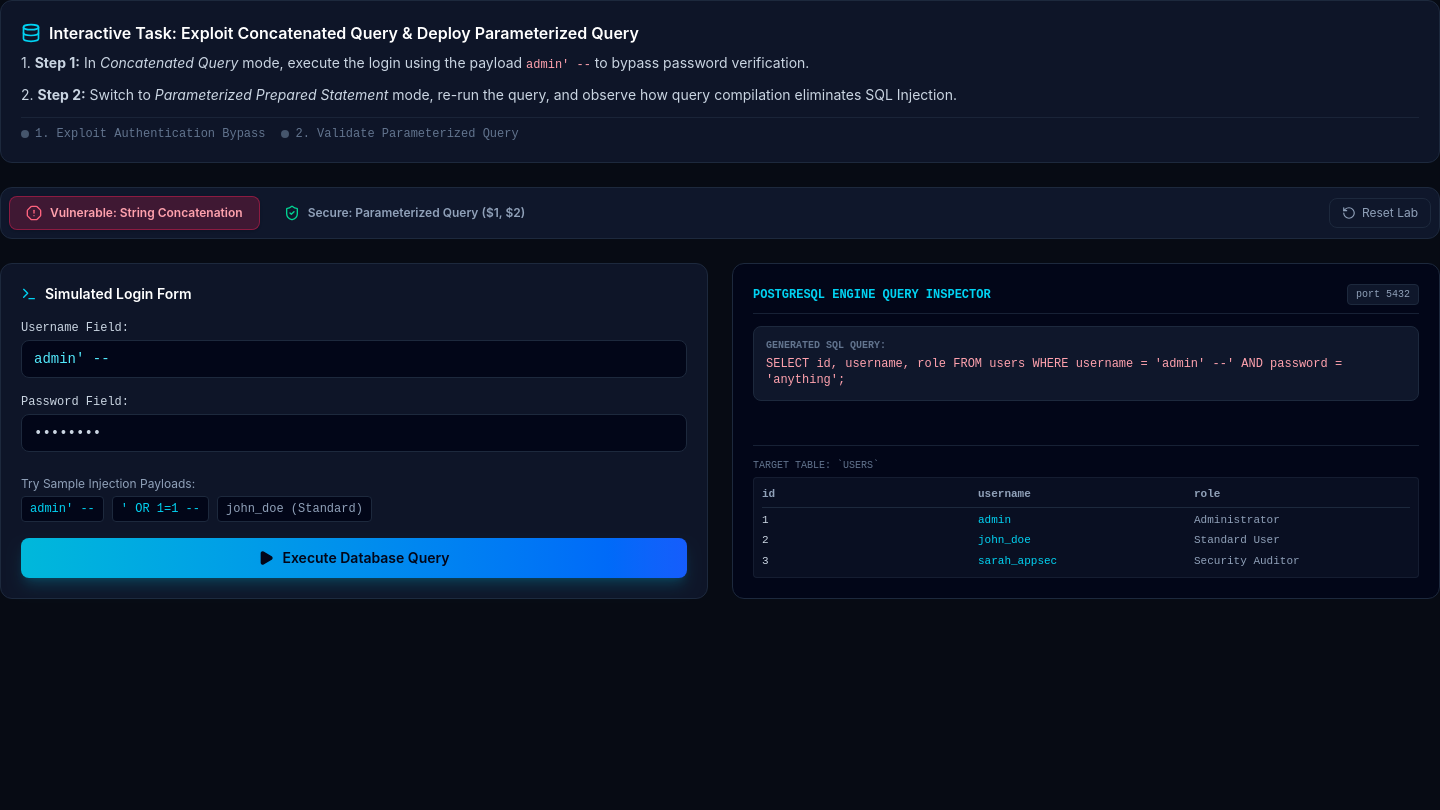
WebSecLab Interactive Sandboxes › SQL Injection Sandbox simulates authentication bypass
Expected: the text "Interactive Task: Exploit Concatenated Query" is shown, [49,23,639,43]
Click the button "Execute Database Query": (354, 558) [21,538,687,578]
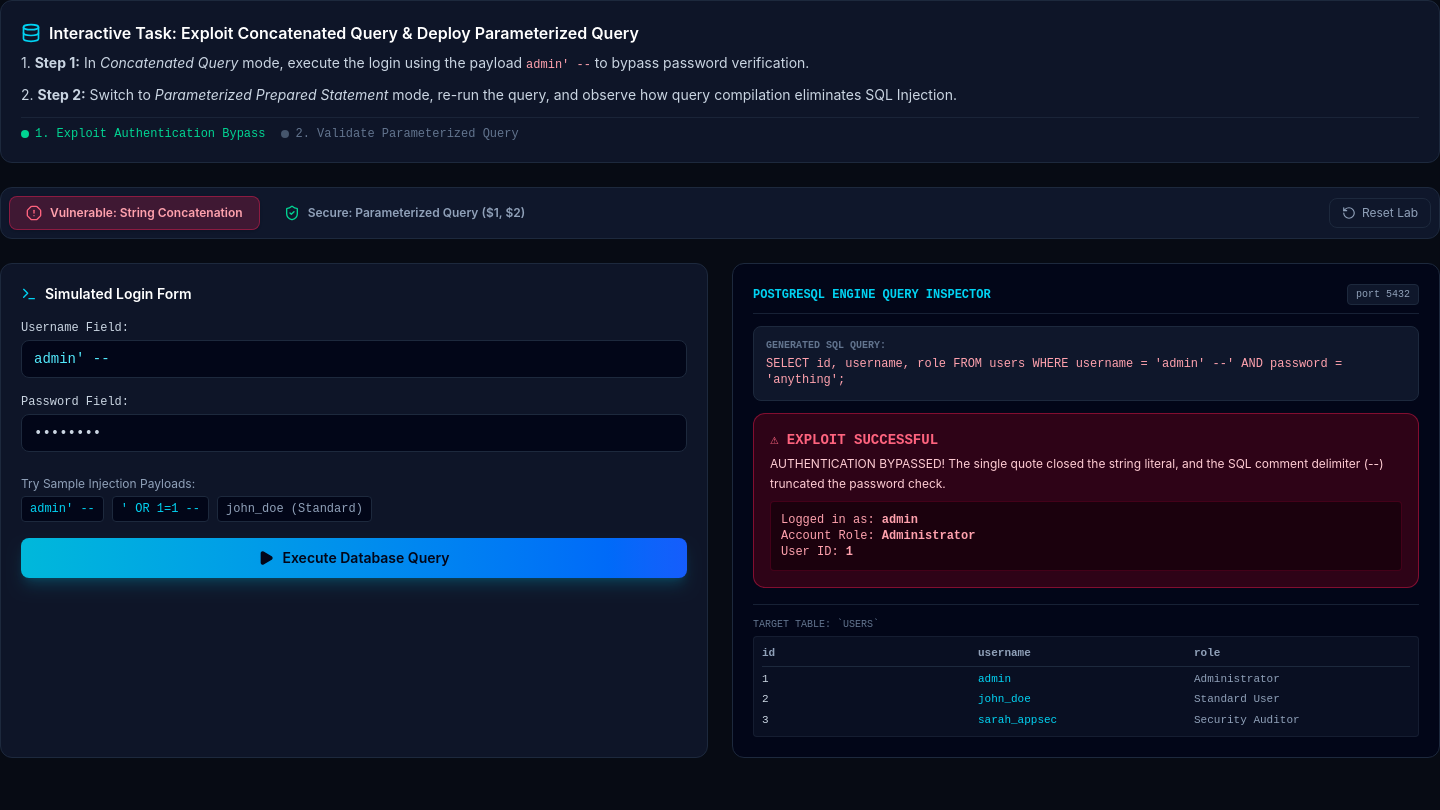
Now the text "AUTHENTICATION BYPASSED!" is shown, box [770,456,1384,491]
